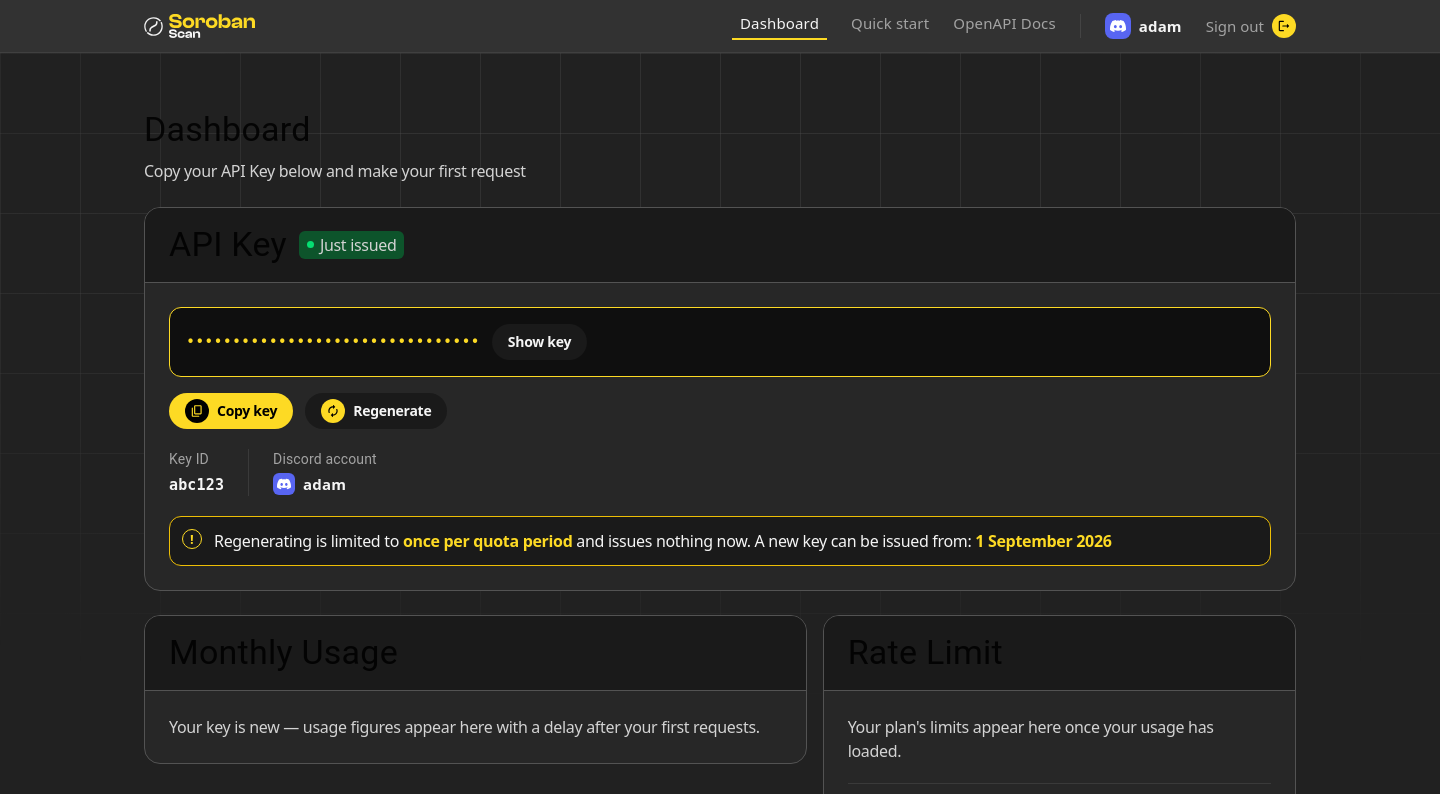
Scenario: replace my key › reports a failed revoke without claiming the key is still active
Step 1. Click the button with test id "replace-key-open" → (376, 411), box [305,393,447,429]
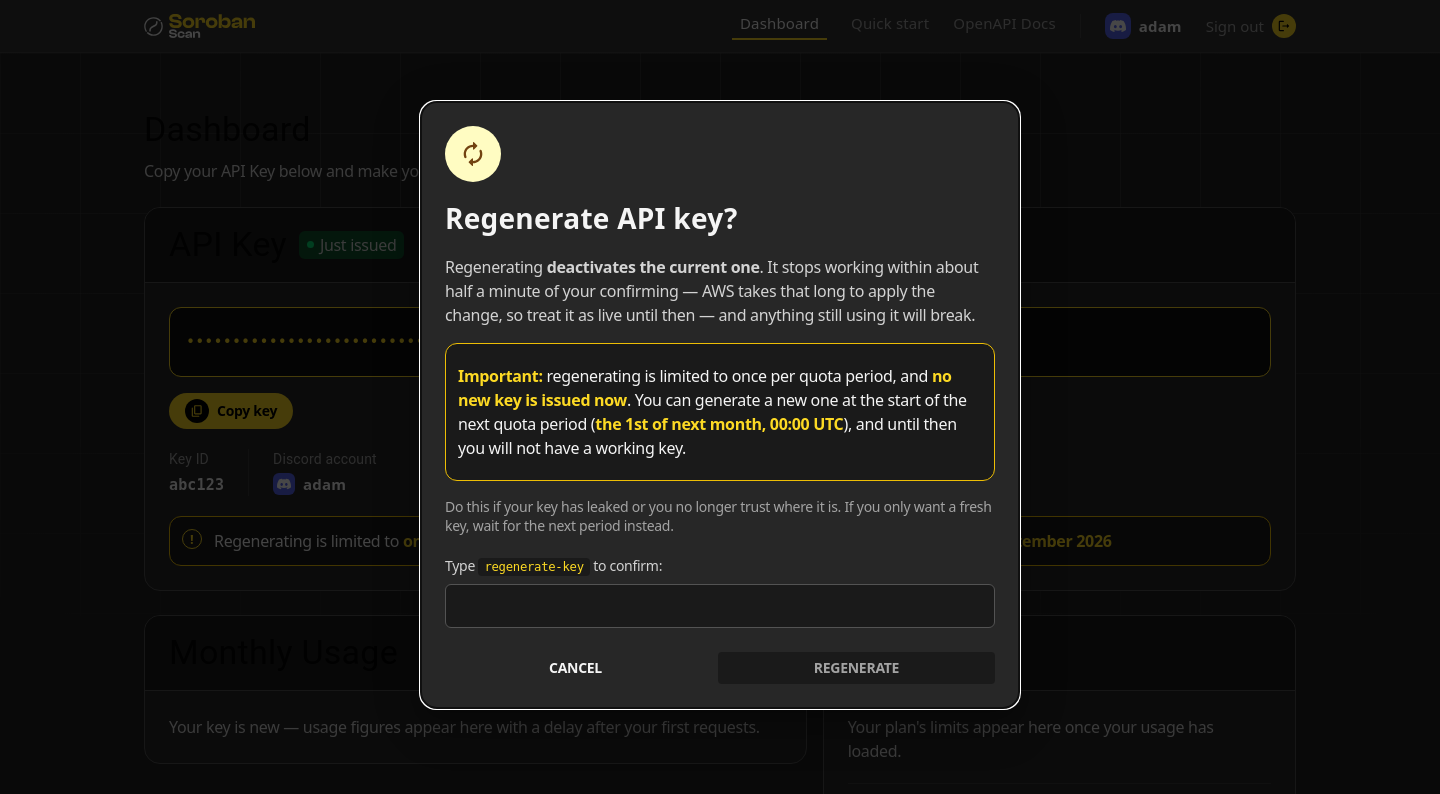
Step 2. Type "regenerate-key" into the field with test id "replace-key-phrase" → (720, 606), box [445,584,995,628]
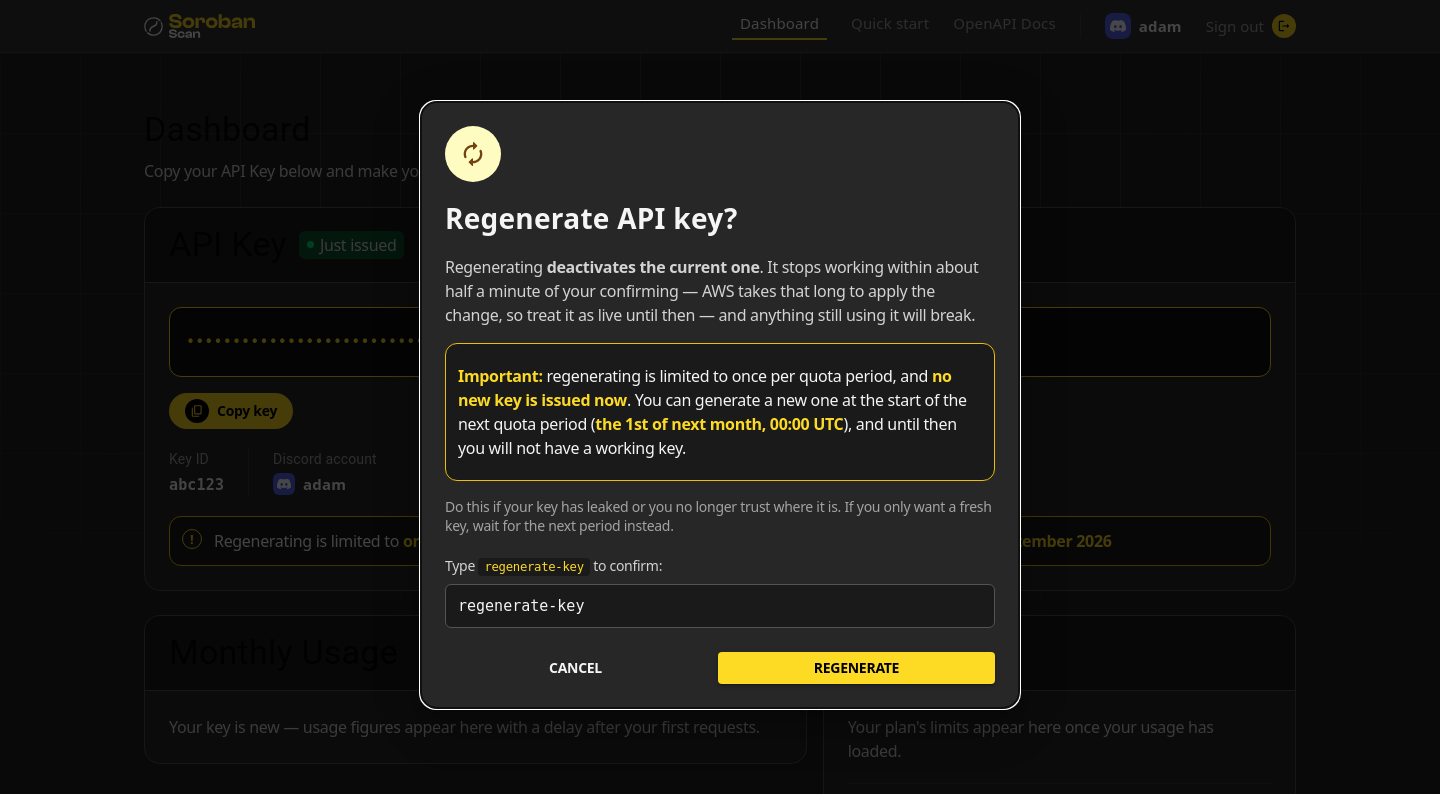
Step 3. Click the button with test id "replace-key-confirm" → (856, 668), box [718,652,995,684]
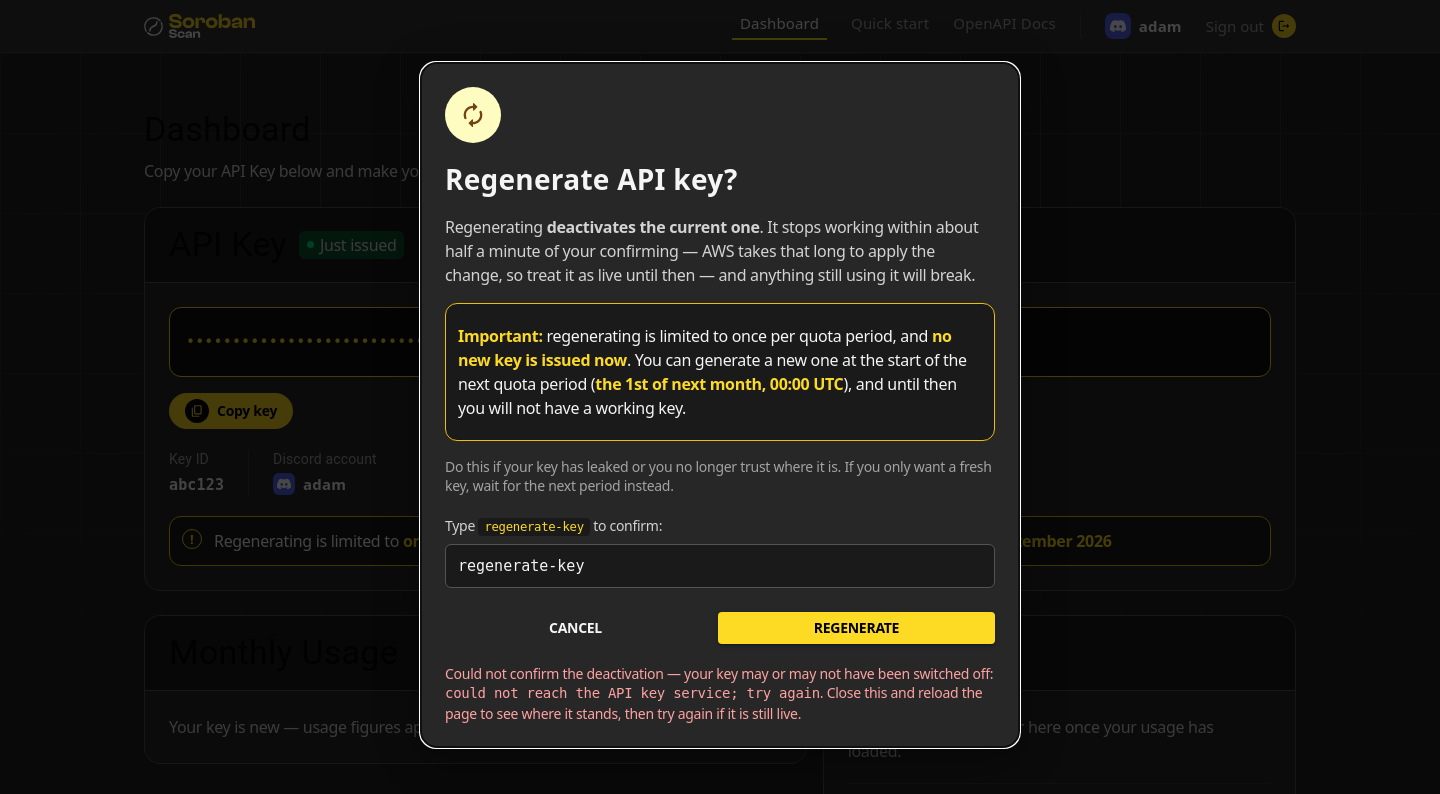
Now the button with test id "replace-key-confirm" is enabled, box [718,612,995,644]
Now the message with test id "replace-key-failed" shows "Could not confirm the deactivation", box [445,664,993,683]
Now the message with test id "replace-key-failed" shows "could not reach the API key service", box [445,685,820,701]
